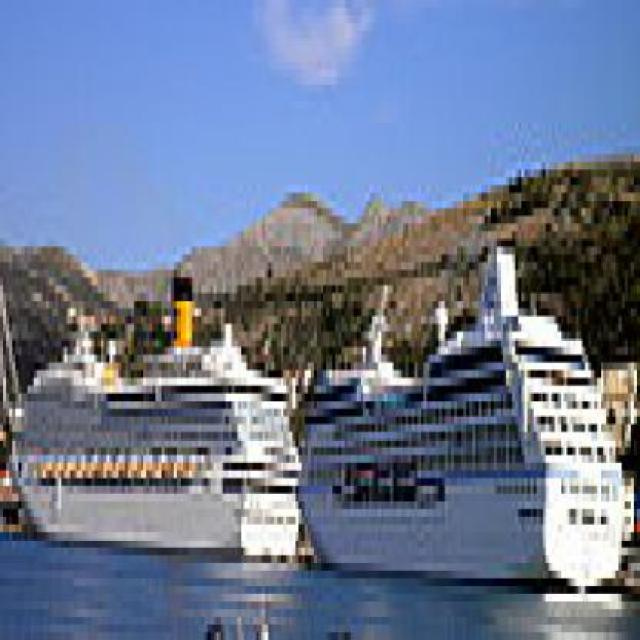cruise: (302, 224, 638, 610), (1, 255, 318, 587)
